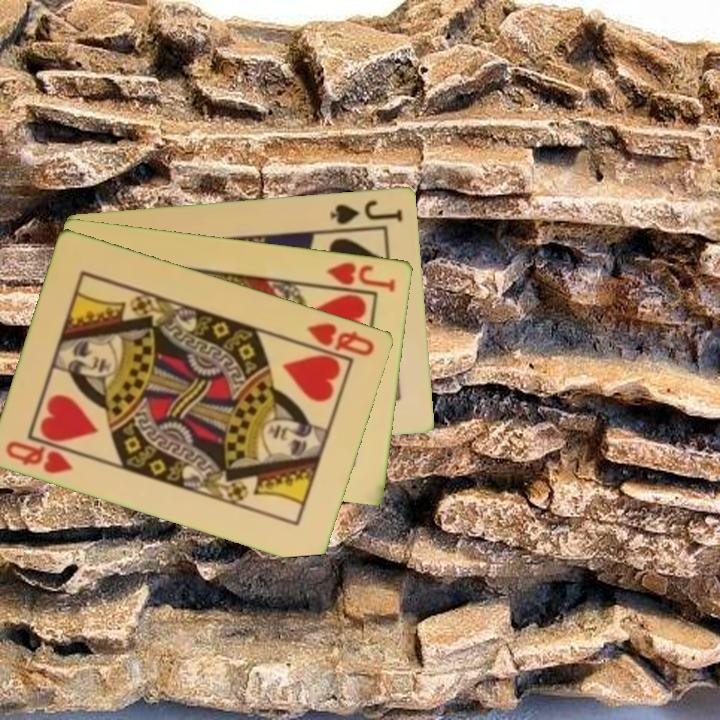Jh: (316, 258, 399, 295)
Js: (327, 195, 406, 227)
Qh: (2, 435, 77, 477), (303, 318, 378, 359)
